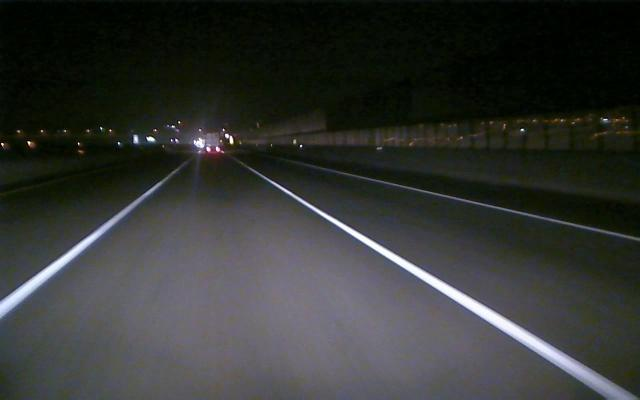lane: (260, 176, 630, 396), (2, 184, 158, 318), (367, 177, 640, 243)
